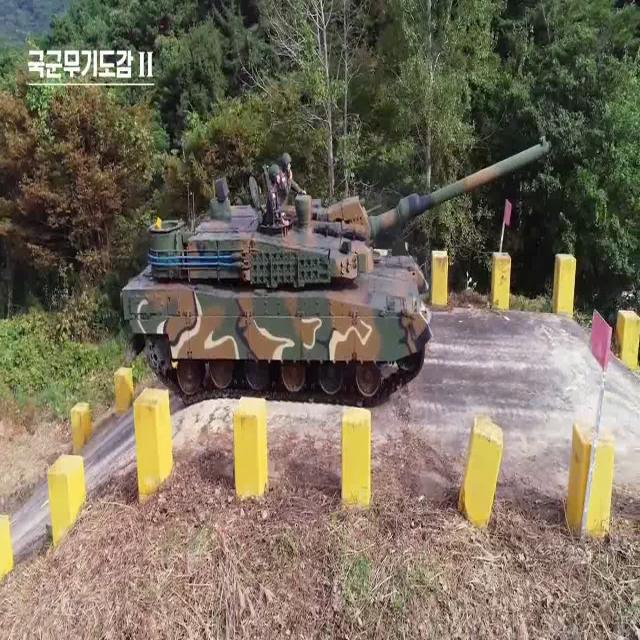korea tank: (120, 125, 552, 412)
